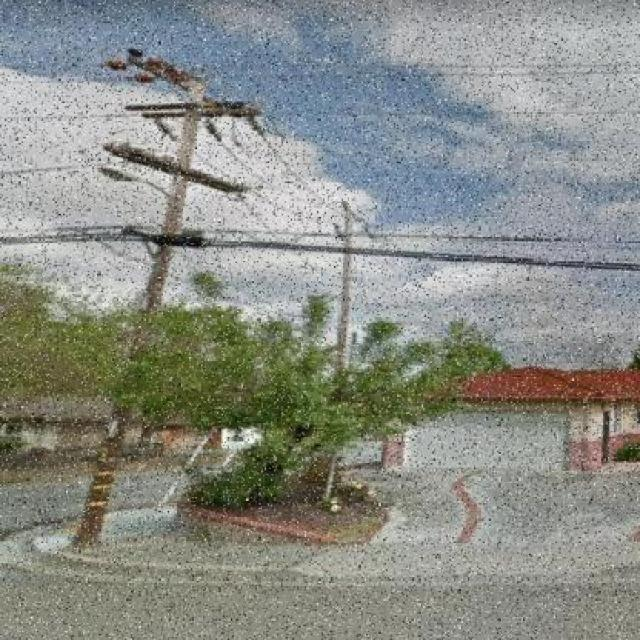pole: (58, 27, 282, 576)
